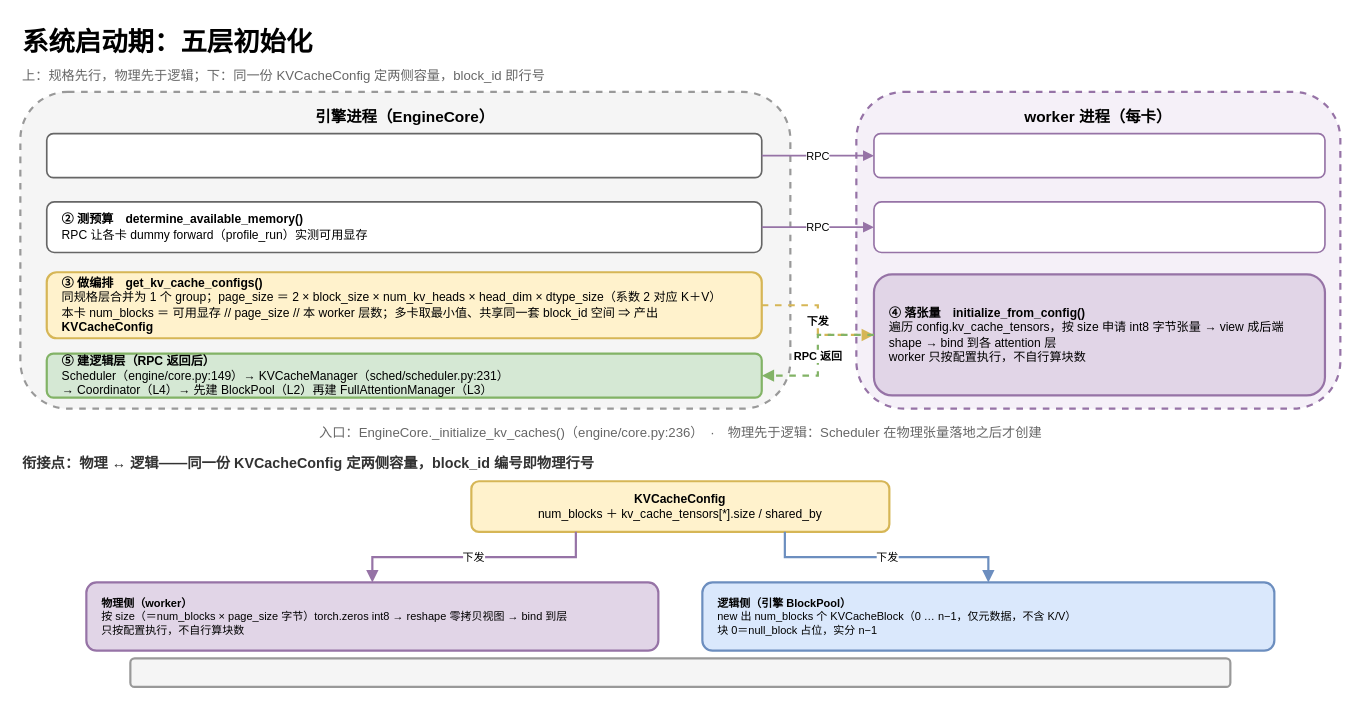
Some shapes in this 1360 by 706 pixel diagram are drawn without their labels. The box of each missing label's shape, as (x1, y1, x2, y2) in pixels:
① 算规格 get_kv_cache_specs() 收集每个 attention 层的 spec；纯 Full Attention 各层相同: (45, 132, 762, 178)
总显存 × 利用率 − 权重 − 激活 − CUDAGraph 预留 ＝ 本卡 KV 可用字节数: (873, 201, 1325, 253)
桥接结果 两侧容量必然相等；block_id 即物理张量第 0 维行号——无需查表或拷贝，调度全程零显存拷贝: (129, 657, 1231, 688)
每层 attention 返回一个 FullAttentionSpec 同规格 ⇒ 合并为全模型唯一 KVCacheGroupSpec: (873, 132, 1325, 178)
